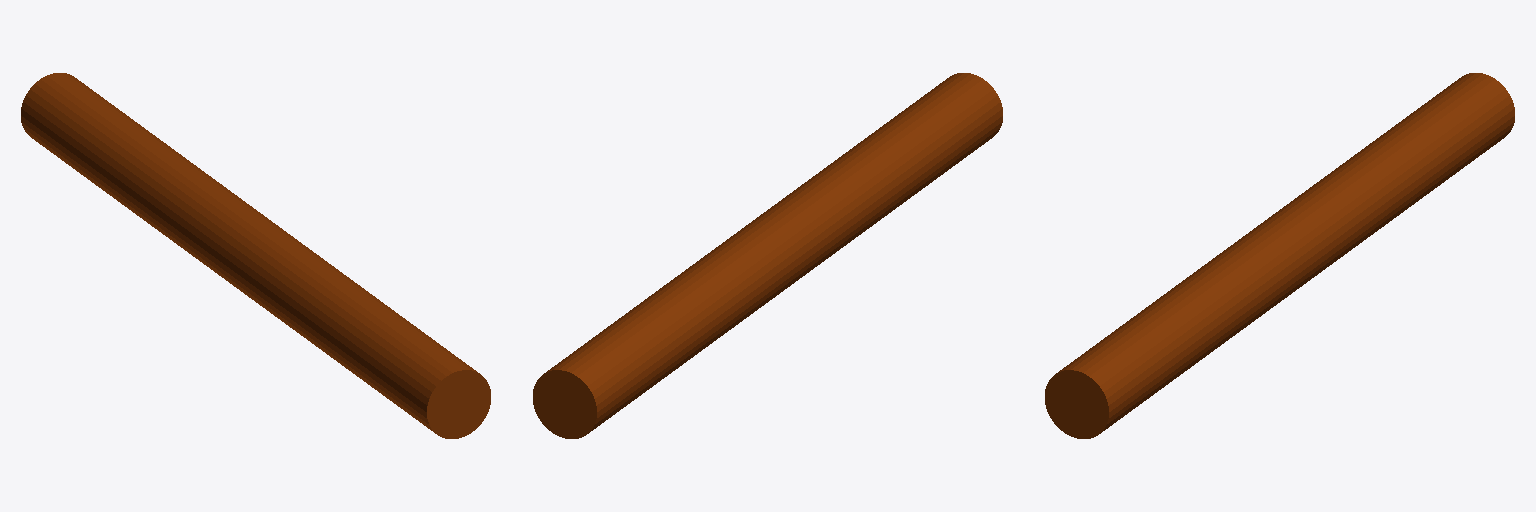
URDF robot description (cylinder):
<?xml version="1.0" ?>
<!-- =================================================================================== -->
<!-- |    This document was autogenerated by xacro from cylinder.xacro                 | -->
<!-- |    EDITING THIS FILE BY HAND IS NOT RECOMMENDED                                 | -->
<!-- =================================================================================== -->
<robot name="cylinder">
  <link name="world"/>
  <link name="base">
    <visual>
      <origin rpy="1.57079633 0 0" xyz="0 0 0"/>
      <geometry>
        <cylinder length="7.07106781185" radius="0.325"/>
      </geometry>
      <material name="cylinder_material">
        <color rgba="0.545 0.271 0.075 1.0"/>
        <texture filename="../textures/tree_bark.jpg"/>
      </material>
    </visual>
    <collision>
      <origin rpy="1.57079633 0 0" xyz="0 0 0"/>
      <geometry>
        <cylinder length="7.07106781185" radius="0.325"/>
      </geometry>
    </collision>
    <inertial>
      <origin rpy="0 0 0" xyz="0 0 0"/>
      <mass value="1"/>
      <inertia ixx="4.193072916648429" ixy="0.0" ixz="0.0" iyy="4.193072916648429" iyz="0.0" izz="24.999999999890573"/>
    </inertial>
  </link>
  <joint name="base_joint" type="fixed">
    <parent link="world"/>
    <child link="base"/>
    <origin rpy="0 0 0" xyz="0.0 0.0 0.0"/>
  </joint>
</robot>

--- Facts derived from the render (not from the file) ---
The picture shows the robot from 3 angles, left to right: view 1: azimuth 30°, elevation 25°; view 2: azimuth 150°, elevation 25°; view 3: azimuth 330°, elevation 25°; orthographic projection.
Model cylinder with 2 links and 1 joints (1 fixed), rooted at world, posed all joints at 0.
Visible links, largest first — view 1: base; view 2: base; view 3: base.
Boxes of the visible links, <box> form: base: <box>21,73,490,438</box>; base: <box>533,73,1002,438</box>; base: <box>1045,73,1514,438</box>.
Bounding box of the posed robot: 0.65 × 7.07 × 0.65 m (x, y, z).
Geometry: primitives only (box / cylinder / sphere), no mesh files.
